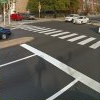crosswalk: (18, 24, 100, 50)
